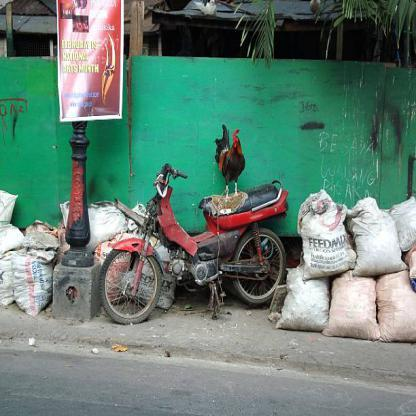Motorcycle: (104, 175, 297, 327)
